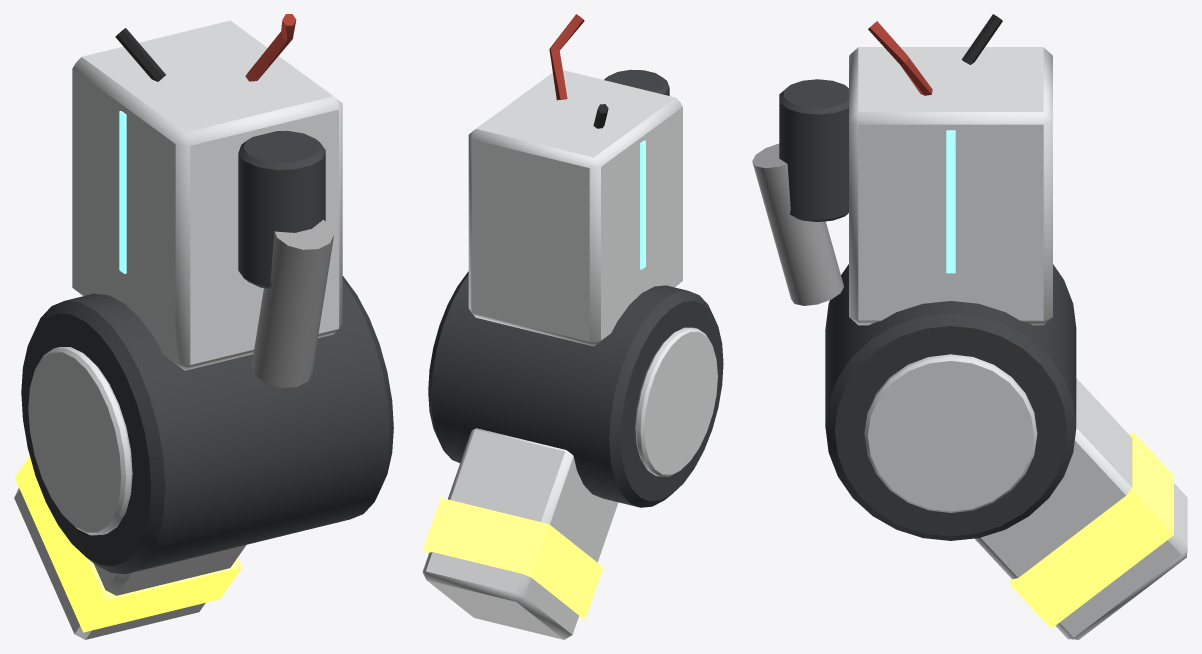
Rendered from sorter_servo_pack.glb.
The picture shows the model from 3 angles, left to right: view 1: azimuth 30°, elevation 25°; view 2: azimuth 150°, elevation 25°; view 3: azimuth 270°, elevation 25°; orthographic projection. The views are drawn at different scales.
Visible parts, largest first — view 1: body; view 2: body; view 3: body.
Part boxes in pixels (bbox=[...]): body: bbox=[14, 14, 393, 639]; body: bbox=[422, 14, 723, 639]; body: bbox=[752, 14, 1187, 639].
Bounding box in the file's own units: 0.35 × 0.8585 × 0.5554.
